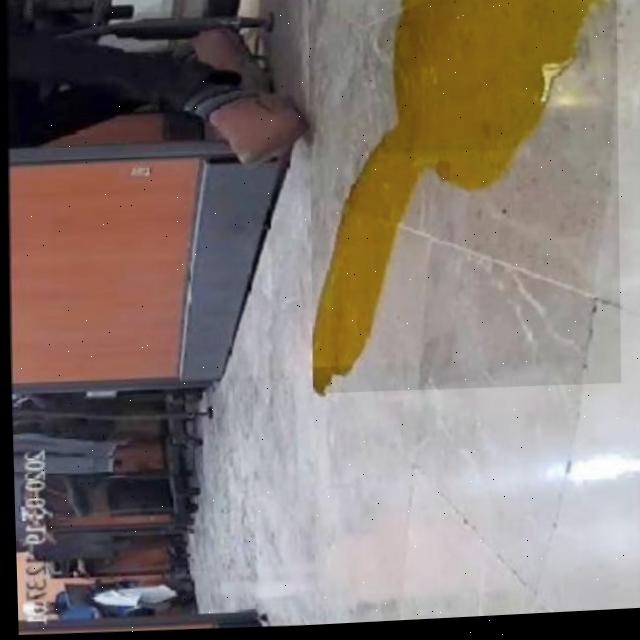spillage: (310, 0, 609, 394)
